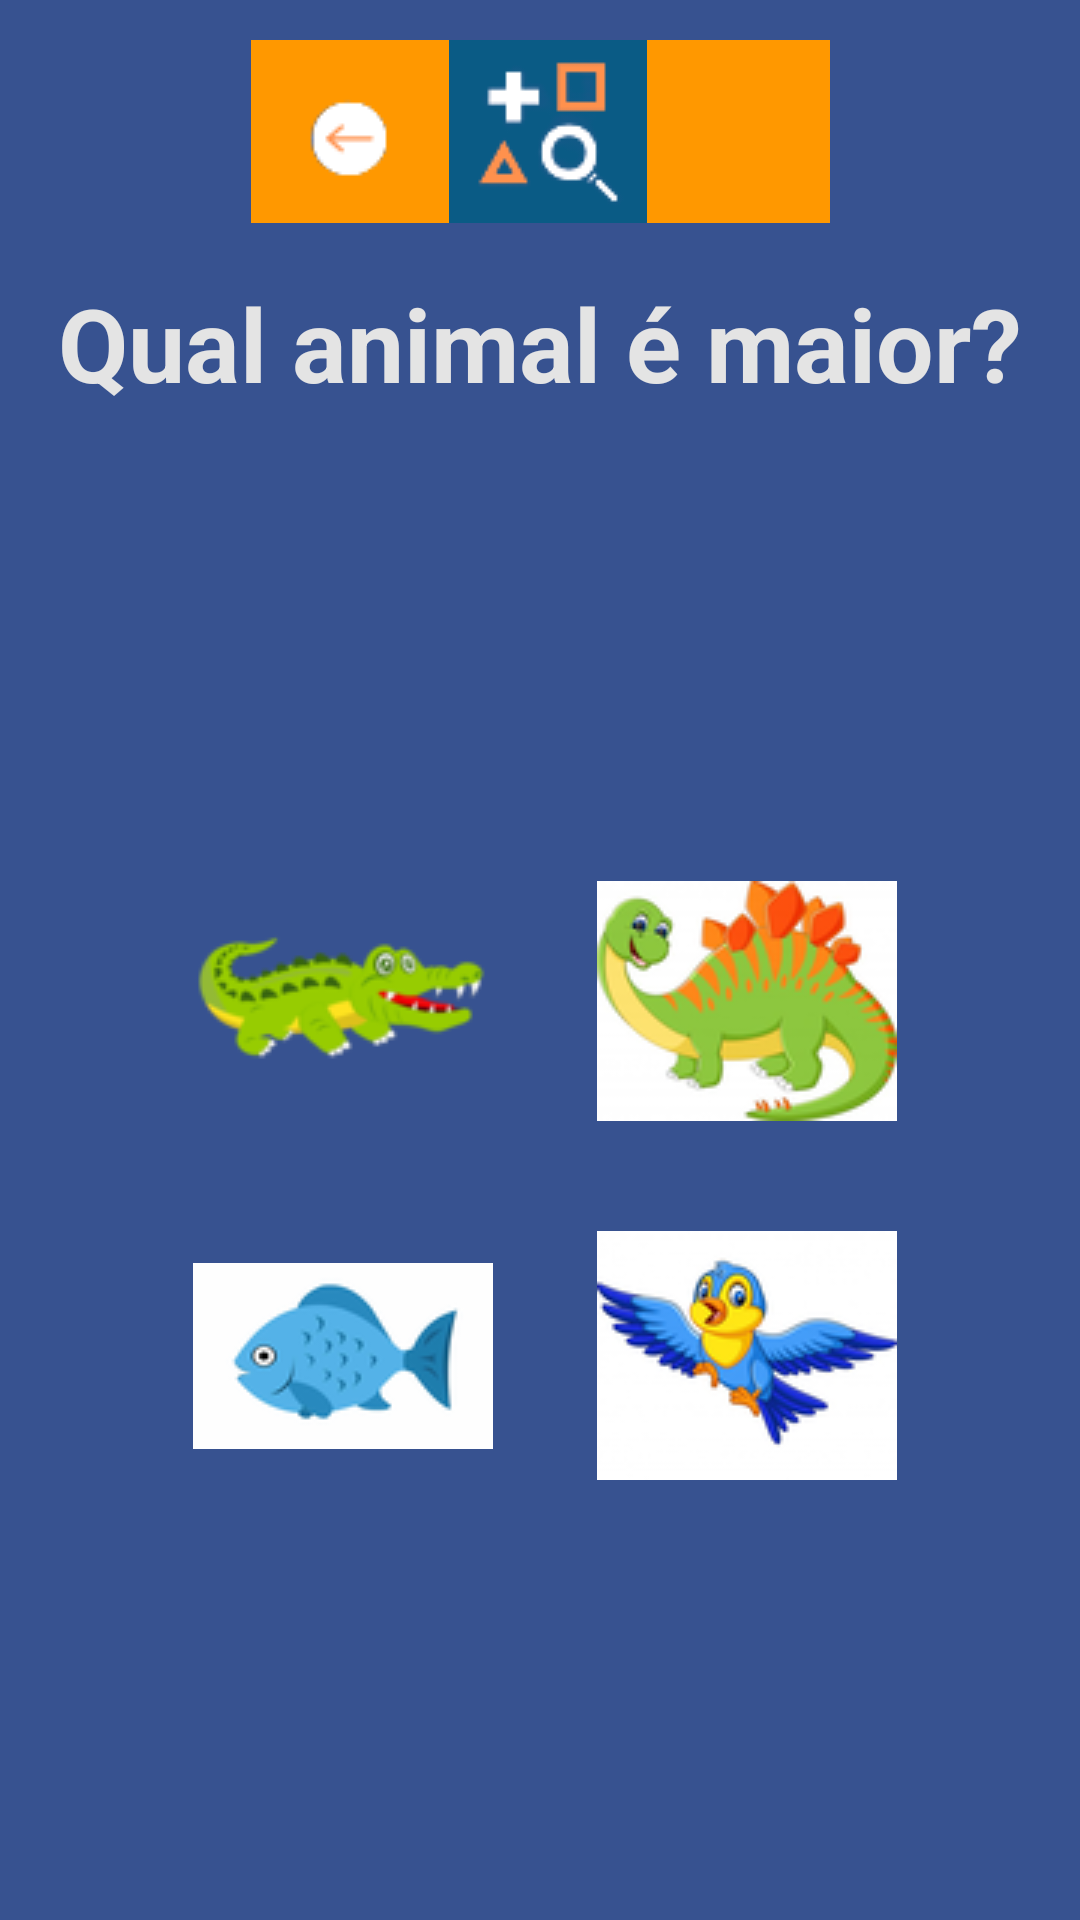

Point at icon controls on the screen. Image size 1080w x 1920h, points as point (x, y).
dino: point (747, 1001)
jacare: point (341, 997)
passarinho: point (747, 1355)
peixe: point (343, 1356)
